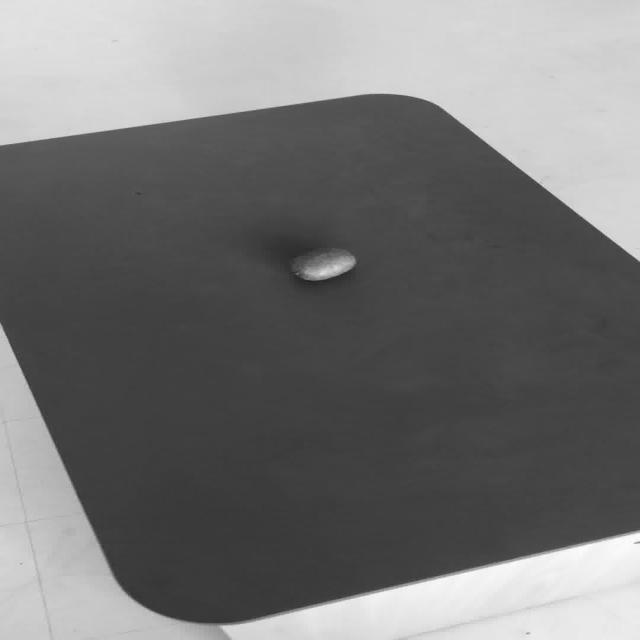kiwi: (288, 247, 356, 281)
